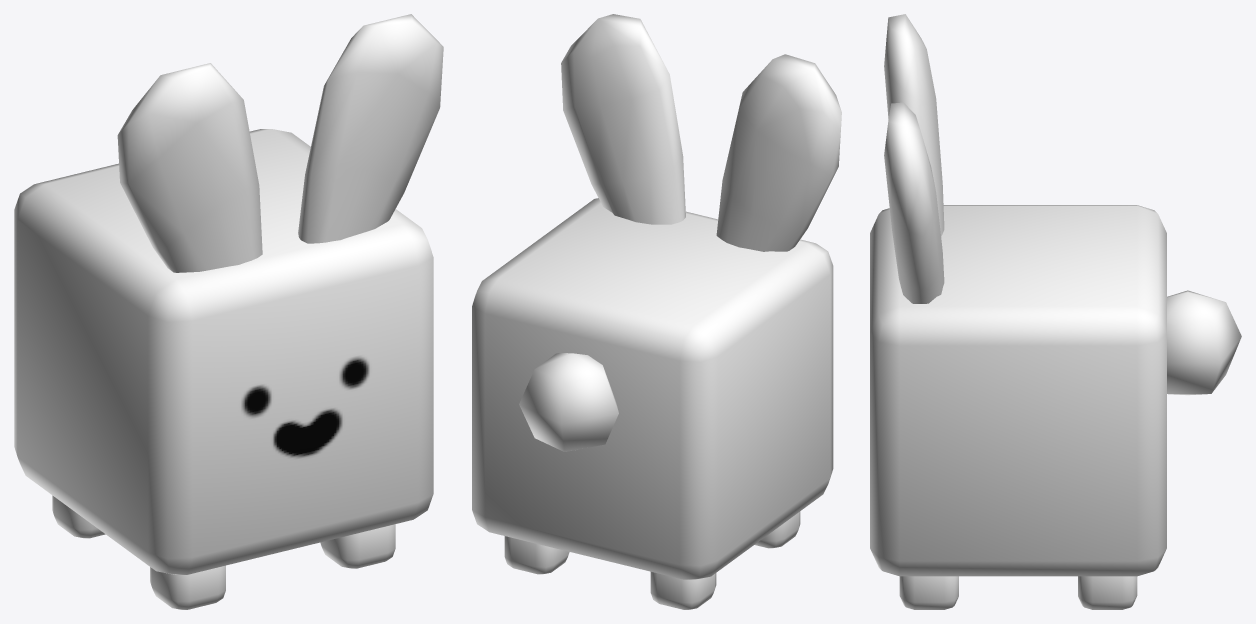
Rendered from bunny.fbx.
The picture shows the model from 3 angles, left to right: view 1: azimuth 30°, elevation 25°; view 2: azimuth 150°, elevation 25°; view 3: azimuth 270°, elevation 25°; orthographic projection. The views are drawn at different scales.
Parts seen in each view (by area): view 1: Cylinder; view 2: Cylinder; view 3: Cylinder.
Boxes of the visible parts, box(x1,y1,x2,y2) form: Cylinder: box(14, 14, 443, 609); Cylinder: box(472, 14, 841, 609); Cylinder: box(870, 14, 1241, 609).
Bounding box in the file's own units: 2.29 × 3.71 × 2.51.
1 material, 1 textured.
